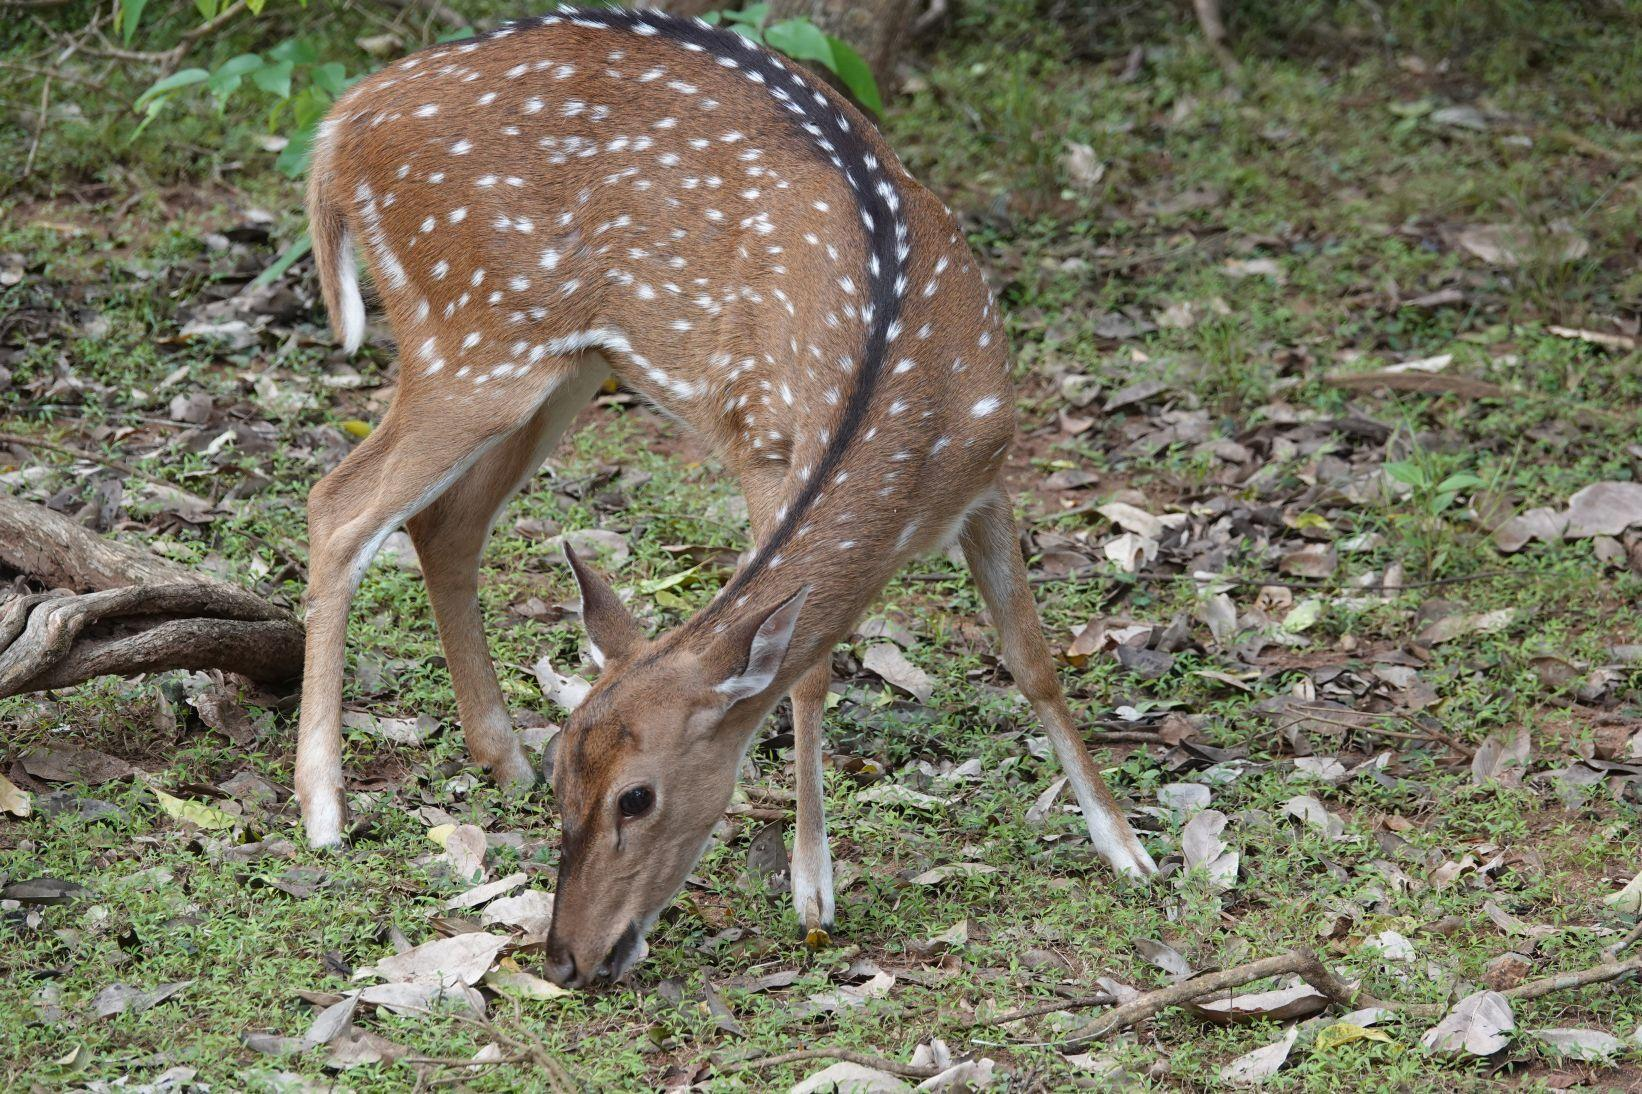Deer: (295, 10, 1151, 987)
